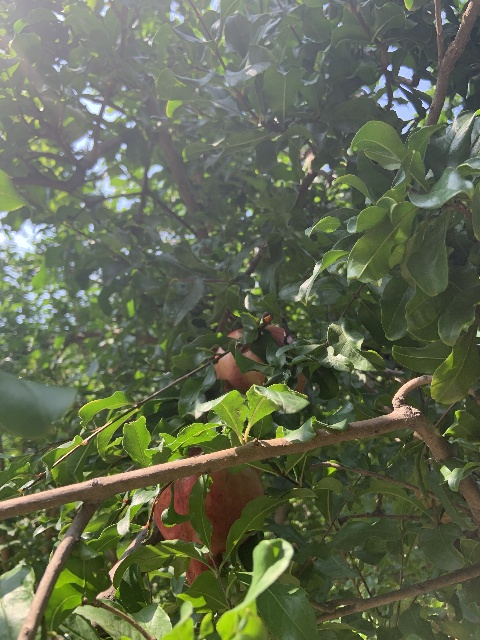ripe: (152, 447, 263, 586), (214, 326, 307, 395)
